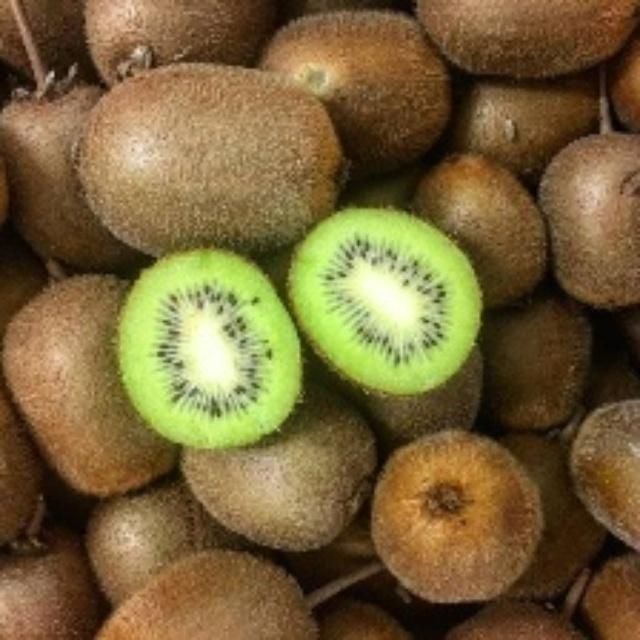kiwi: (129, 207, 461, 451), (83, 61, 333, 245), (338, 408, 561, 597), (417, 125, 639, 300), (15, 277, 166, 493), (180, 395, 377, 556), (259, 12, 463, 157)
